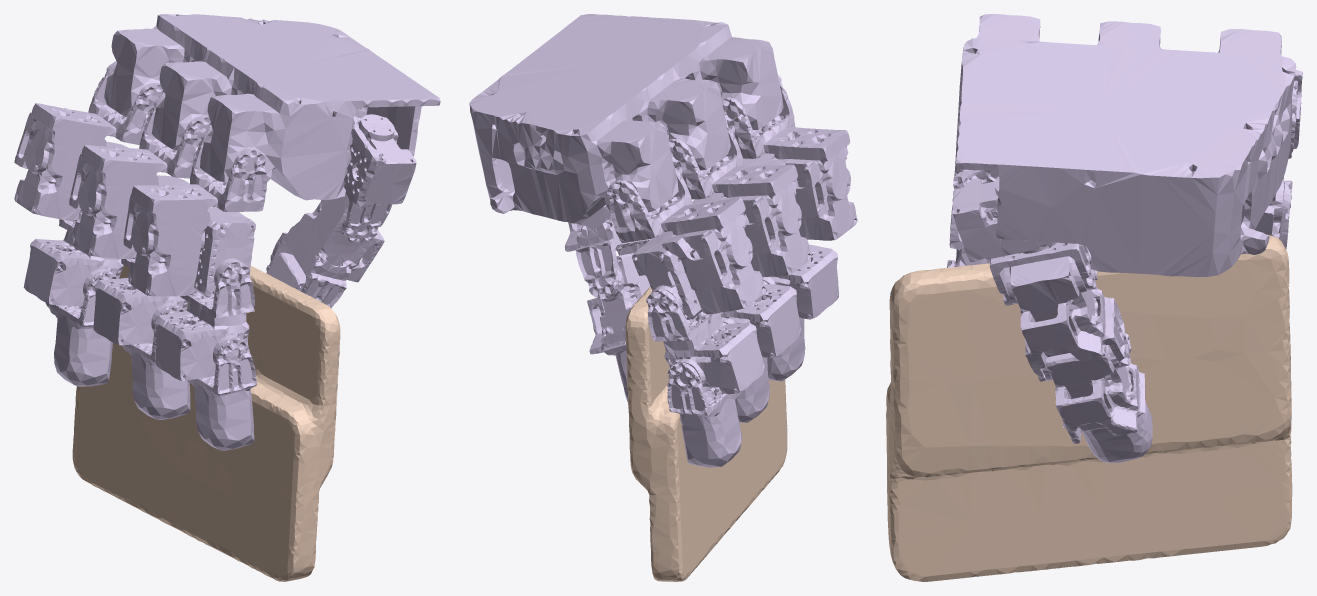
3 views of the same model, side by side, from view 1: azimuth 30°, elevation 25°; view 2: azimuth 150°, elevation 25°; view 3: azimuth 270°, elevation 25° (orthographic). The views are drawn at different scales.
Parts seen in each view (by area): view 1: LEAP_hand, world; view 2: LEAP_hand, world; view 3: world, LEAP_hand.
Part boxes in pixels (x1=…): LEAP_hand: x1=14, y1=14, x2=440, y2=450; world: x1=72, y1=265, x2=340, y2=581; LEAP_hand: x1=469, y1=14, x2=857, y2=467; world: x1=625, y1=286, x2=787, y2=581; world: x1=886, y1=234, x2=1292, y2=581; LEAP_hand: x1=947, y1=14, x2=1302, y2=462.
Bounding box in the file's own units: 0.1548 × 0.225 × 0.1552.
